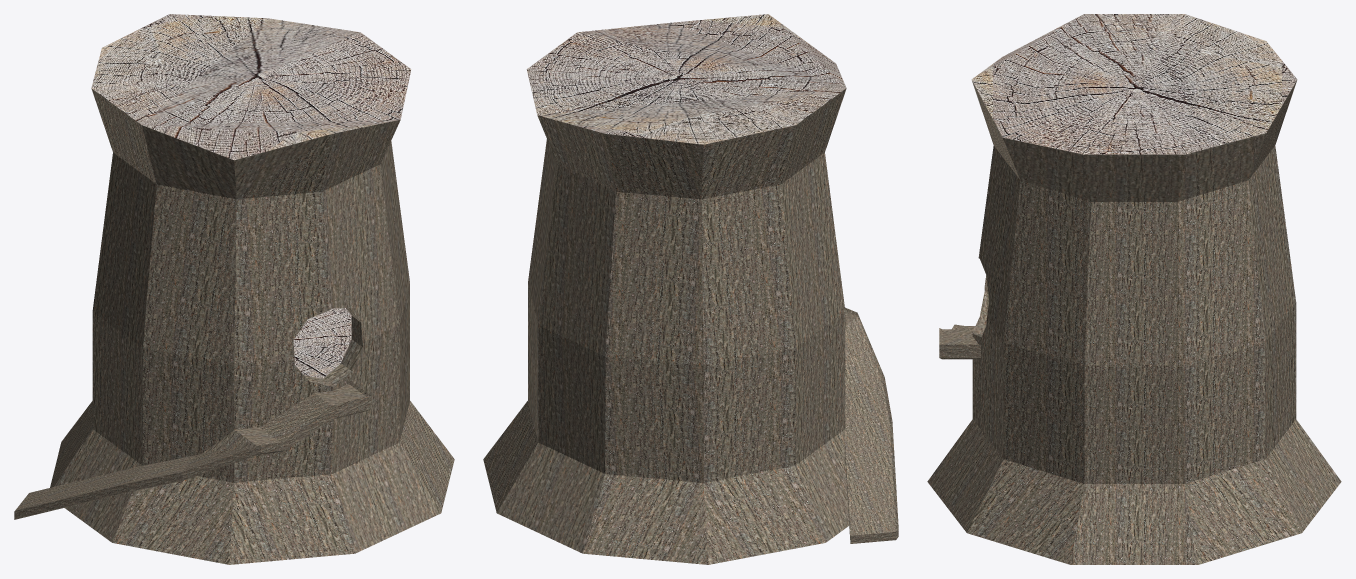
The model's file is stump.fbx.
The picture shows the model from 3 angles, left to right: view 1: azimuth 30°, elevation 25°; view 2: azimuth 150°, elevation 25°; view 3: azimuth 270°, elevation 25°; orthographic projection.
Visible parts, largest first — view 1: stump, Cube; view 2: stump, Cube; view 3: stump, Cube.
Boxes of the visible parts, bbox=[...] form: stump: bbox=[50, 14, 454, 564]; Cube: bbox=[14, 381, 370, 519]; stump: bbox=[483, 14, 849, 564]; Cube: bbox=[844, 307, 898, 543]; stump: bbox=[927, 14, 1341, 564]; Cube: bbox=[939, 324, 980, 359].
Bounding box in the file's own units: 281 × 274 × 256.
